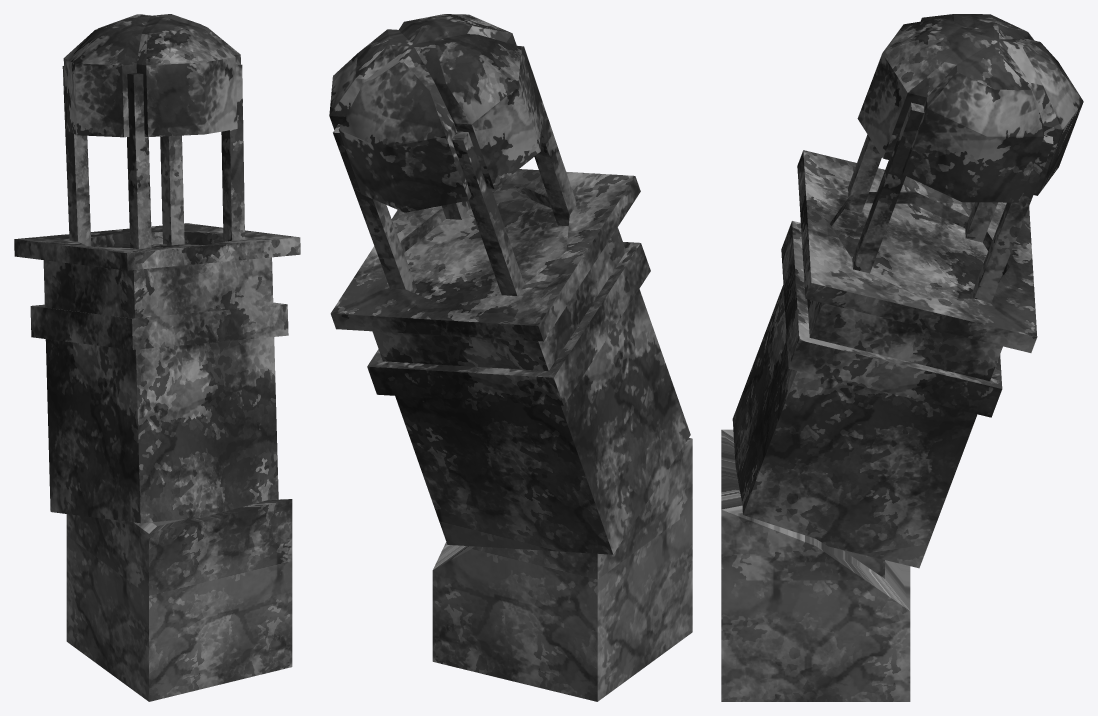
Rendered from TowerDestroyed1.fbx.
3 renders of one model, left to right at view 1: azimuth 30°, elevation 25°; view 2: azimuth 150°, elevation 25°; view 3: azimuth 270°, elevation 25°, orthographic. The views are drawn at different scales.
Visible parts, largest first — view 1: Dtower1; view 2: Dtower1; view 3: Dtower1.
Boxes of the visible parts, bbox=[...] form: Dtower1: bbox=[14, 14, 300, 701]; Dtower1: bbox=[329, 14, 692, 701]; Dtower1: bbox=[721, 14, 1083, 701].
Bounding box in the file's own units: 1008 × 2621 × 1309.
